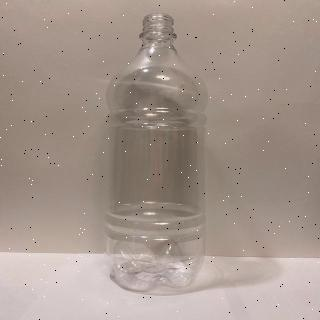Plastic-bottle: (96, 9, 213, 299)
